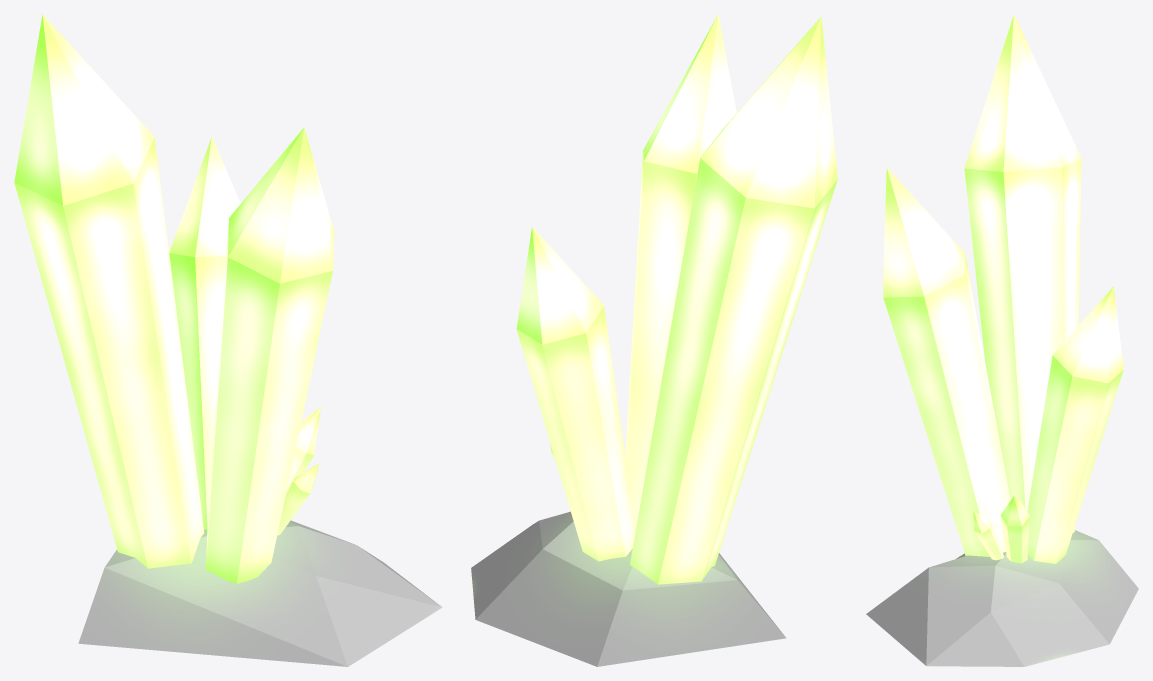
Rendered from Crystal_01.fbx.
3 renders of one model, left to right at view 1: azimuth 30°, elevation 25°; view 2: azimuth 150°, elevation 25°; view 3: azimuth 270°, elevation 25°, orthographic. The views are drawn at different scales.
Parts seen in each view (by area): view 1: pCylinder6; view 2: pCylinder6; view 3: pCylinder6.
Boxes of the visible parts, left/top/right/bottom form: pCylinder6: left=14, top=14, right=442, bottom=666; pCylinder6: left=471, top=14, right=837, bottom=666; pCylinder6: left=866, top=14, right=1138, bottom=666.
Bounding box in the file's own units: 0.6223 × 1.06 × 0.5076.
